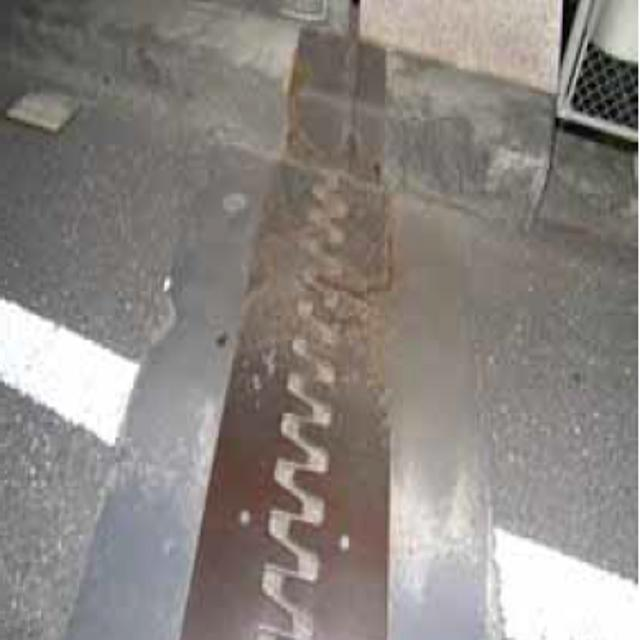corrosion: (197, 21, 407, 640)
